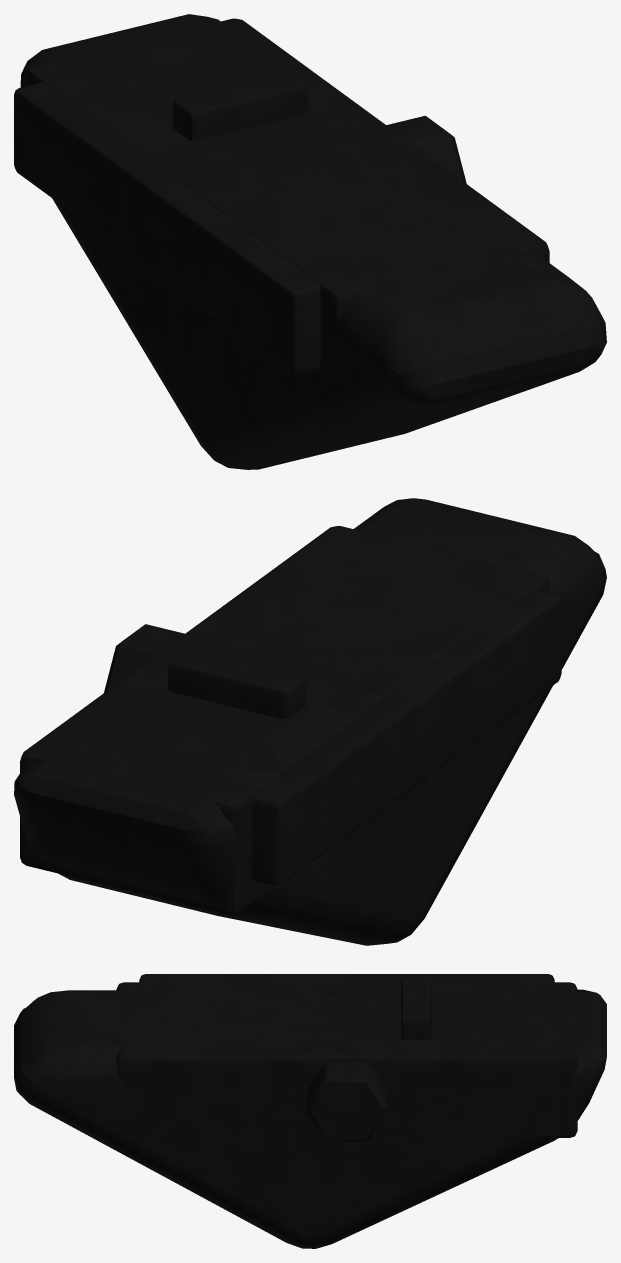
File: angled.gltf
The picture shows the model from 3 angles, top to bottom: view 1: azimuth 30°, elevation 25°; view 2: azimuth 150°, elevation 25°; view 3: azimuth 270°, elevation 25°; orthographic projection. The views are drawn at different scales.
Visible parts, largest first — view 1: Body; view 2: Body; view 3: Body.
Part boxes in pixels (x1,y1,x2,y2): Body: (14,14,606,469); Body: (14,498,606,945); Body: (14,974,606,1248).
Bounding box in the file's own units: 0.032 × 0.032 × 0.0771.
1 material, 1 textured.
